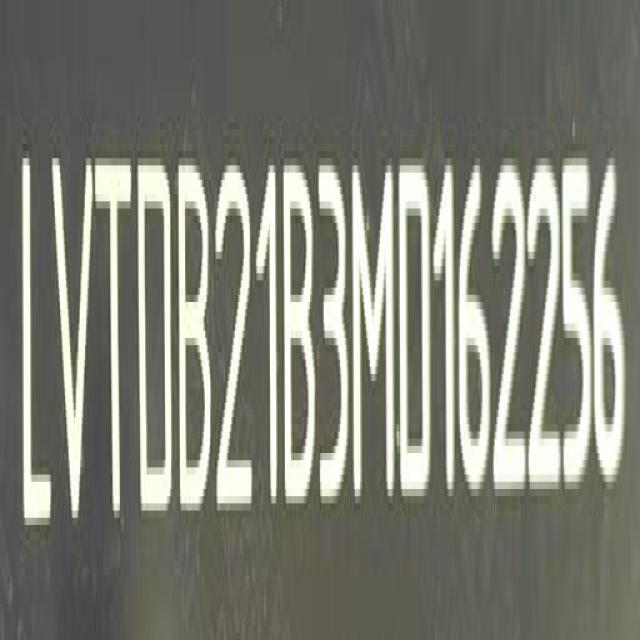1: (258, 165, 282, 524), (435, 153, 456, 512)
2: (217, 165, 256, 529), (494, 160, 530, 512), (528, 160, 562, 508)
3: (318, 162, 349, 525)
5: (562, 156, 592, 496)
6: (459, 159, 493, 509), (595, 156, 628, 497)
B: (177, 161, 213, 534), (284, 159, 320, 518)
D: (135, 158, 173, 531), (399, 156, 433, 513)
L: (16, 143, 50, 551)
M: (352, 158, 395, 516)
T: (98, 151, 136, 536)
V: (48, 146, 94, 545)
